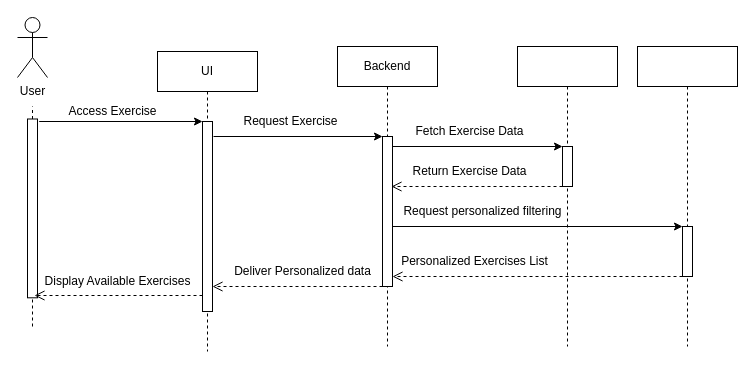
The diagram is 755 pixels wide and 369 high, and some of its shapes have lost their labels. The shapes that lost their labels are listed below. From the top down, each one's centre as x and y in pixels, then its label:
the point at 567,196: Database
the point at 687,196: AI Model
